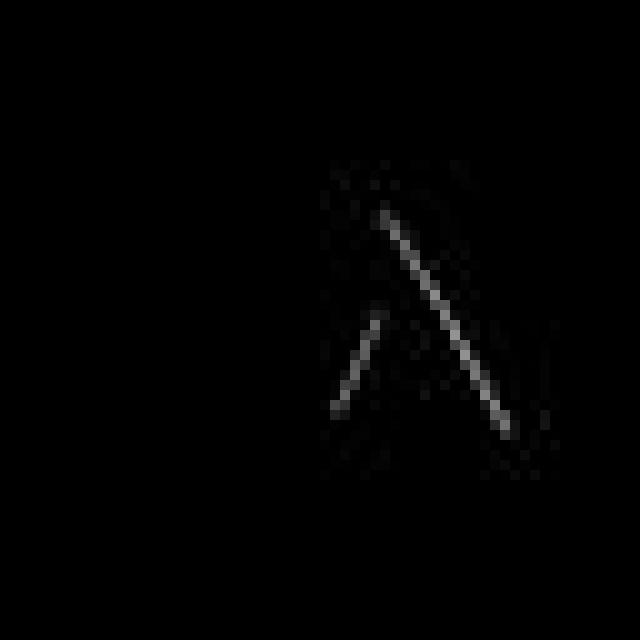8 -eight-: (312, 200, 528, 453)
